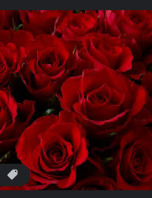RedRose: (59, 70, 145, 132), (18, 114, 87, 190), (21, 35, 70, 96), (71, 32, 133, 75), (115, 128, 152, 190), (53, 12, 102, 42), (105, 10, 152, 41)
